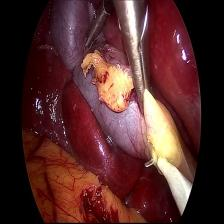Grasper: (120, 34, 158, 113), (83, 5, 108, 52)
Hook: (144, 149, 194, 216)
